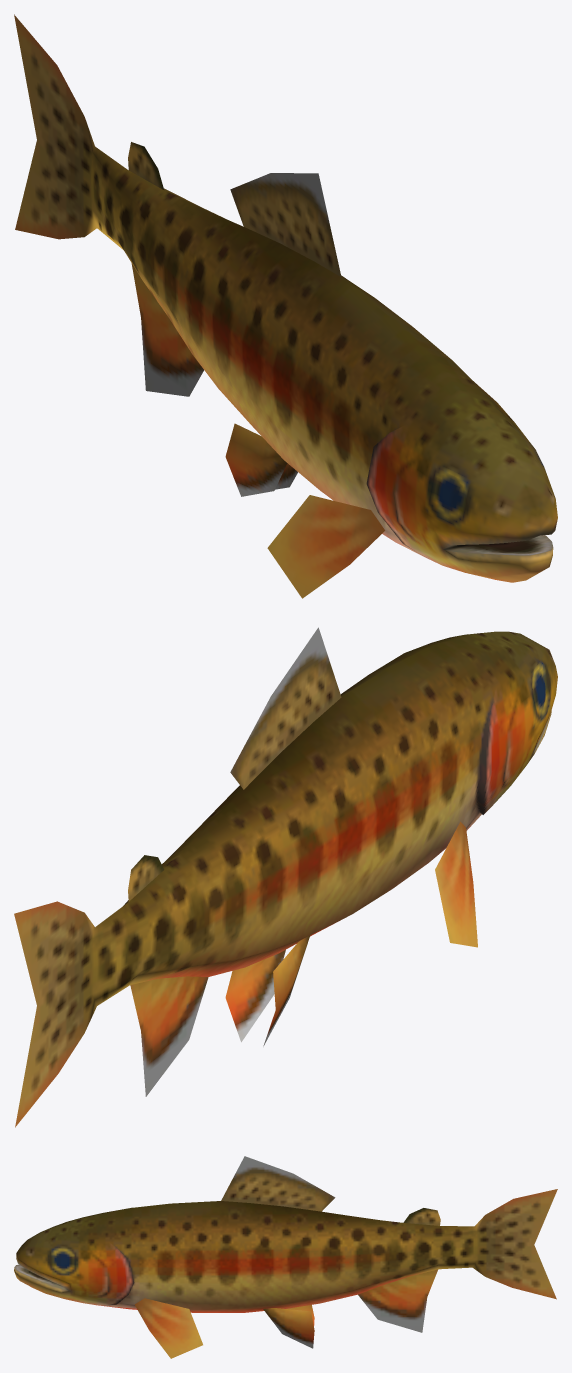
The model's file is FishGoldenTorauto.glb.
3 views of the same model, one above another, from view 1: azimuth 30°, elevation 25°; view 2: azimuth 150°, elevation 25°; view 3: azimuth 270°, elevation 25° (orthographic). The views are drawn at different scales.
Parts seen in each view (by area): view 1: FishGoldenTorauto__mGoldenTorauto; view 2: FishGoldenTorauto__mGoldenTorauto; view 3: FishGoldenTorauto__mGoldenTorauto.
Boxes of the visible parts, left/top/right/bottom form: FishGoldenTorauto__mGoldenTorauto: left=14, top=14, right=557, bottom=598; FishGoldenTorauto__mGoldenTorauto: left=14, top=627, right=557, bottom=1127; FishGoldenTorauto__mGoldenTorauto: left=14, top=1156, right=557, bottom=1358.
Size of the model in its own units: 1.58 by 3.05 by 7.92.
1 material, 1 textured.
